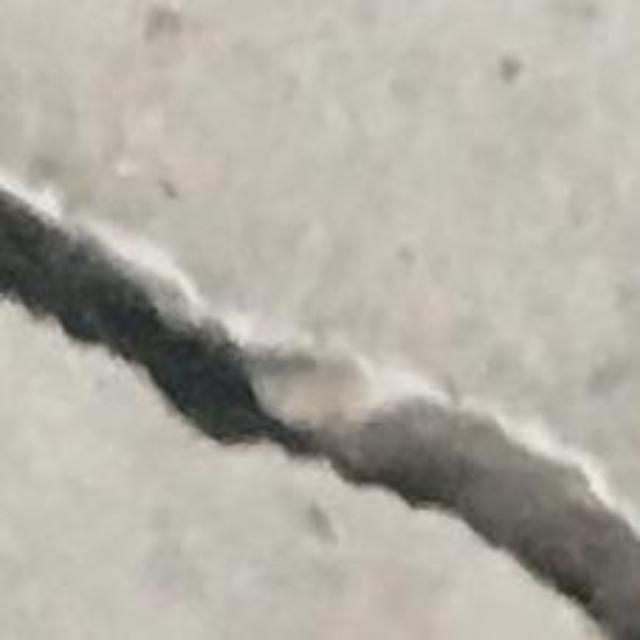crack: (0, 187, 639, 639)
